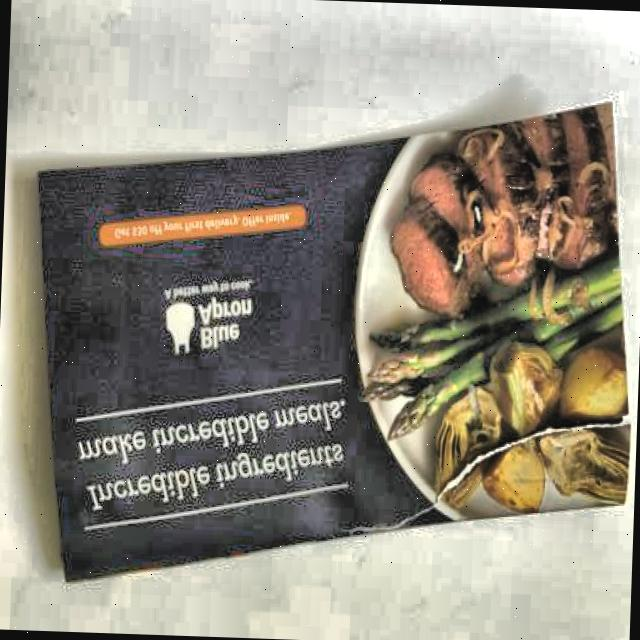paper: (20, 70, 640, 607)
